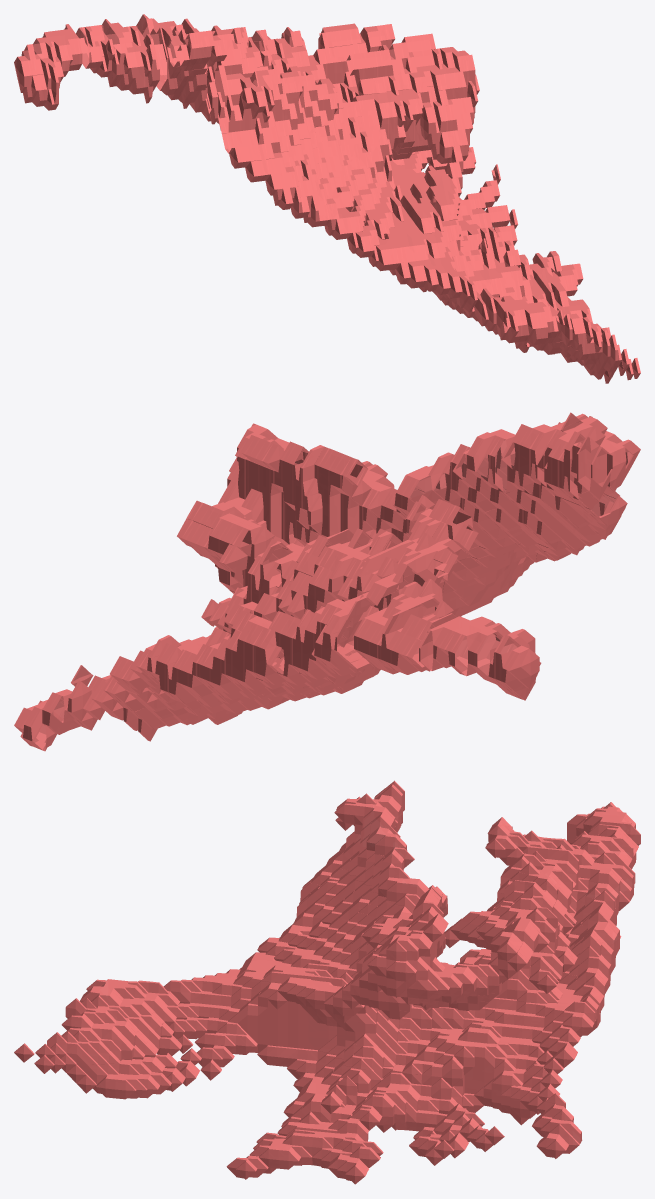
The model's file is SVV_BWM-DR05.gltf.
The picture shows the model from 3 angles, top to bottom: view 1: azimuth 30°, elevation 25°; view 2: azimuth 150°, elevation 25°; view 3: azimuth 270°, elevation 25°; orthographic projection. The views are drawn at different scales.
Visible parts, largest first — view 1: BWM-DR05; view 2: BWM-DR05; view 3: BWM-DR05.
Part boxes in pixels (<box>): BWM-DR05: <box>14,14,640,383</box>; BWM-DR05: <box>14,412,640,751</box>; BWM-DR05: <box>14,780,640,1184</box>.
Size of the model in its own units: 27948 by 18456 by 39895.
